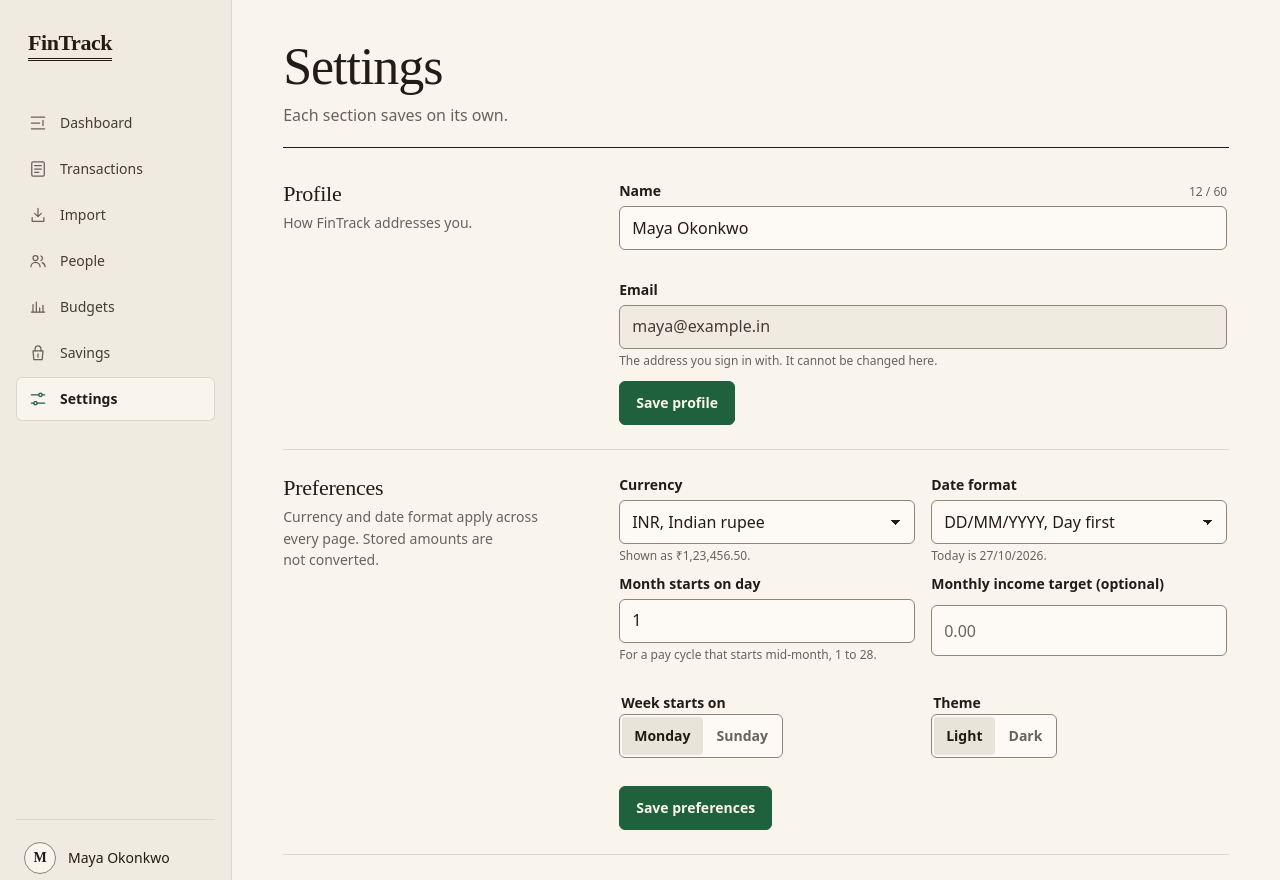
Test case: settings › saves the profile and preferences separately
The width and height of the screenshot is (1280, 880).
Replace the text in the field labelled "Name" with "Maya 2" at (923,228), box left=619, top=206, right=1227, bottom=250
Leave the field labelled "Name", box left=619, top=206, right=1227, bottom=250
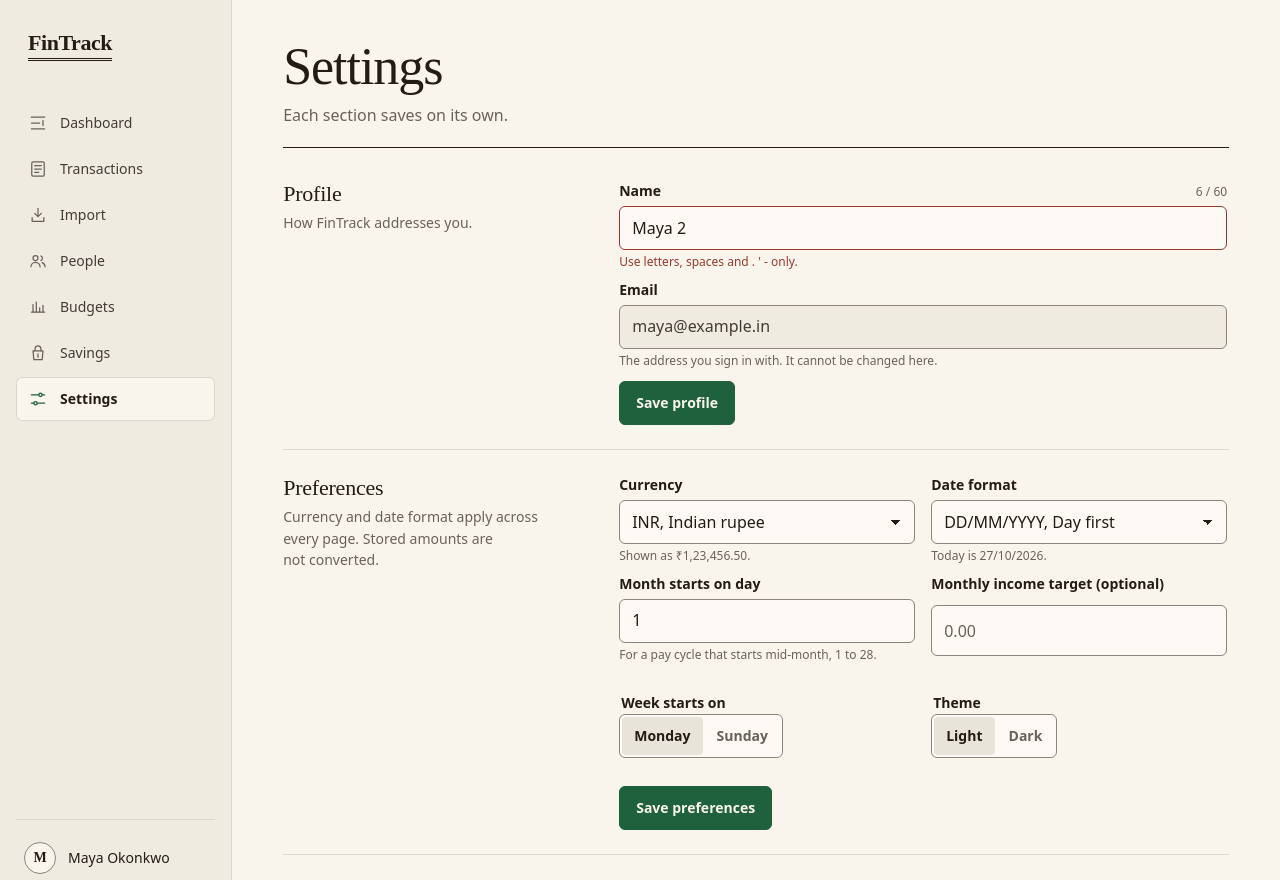
Result: the text "Use letters, spaces and . ' - only." is shown at left=619, top=253, right=798, bottom=270
Replace the text in the field labelled "Name" with "Maya Rao" at (923,228), box left=619, top=206, right=1227, bottom=250
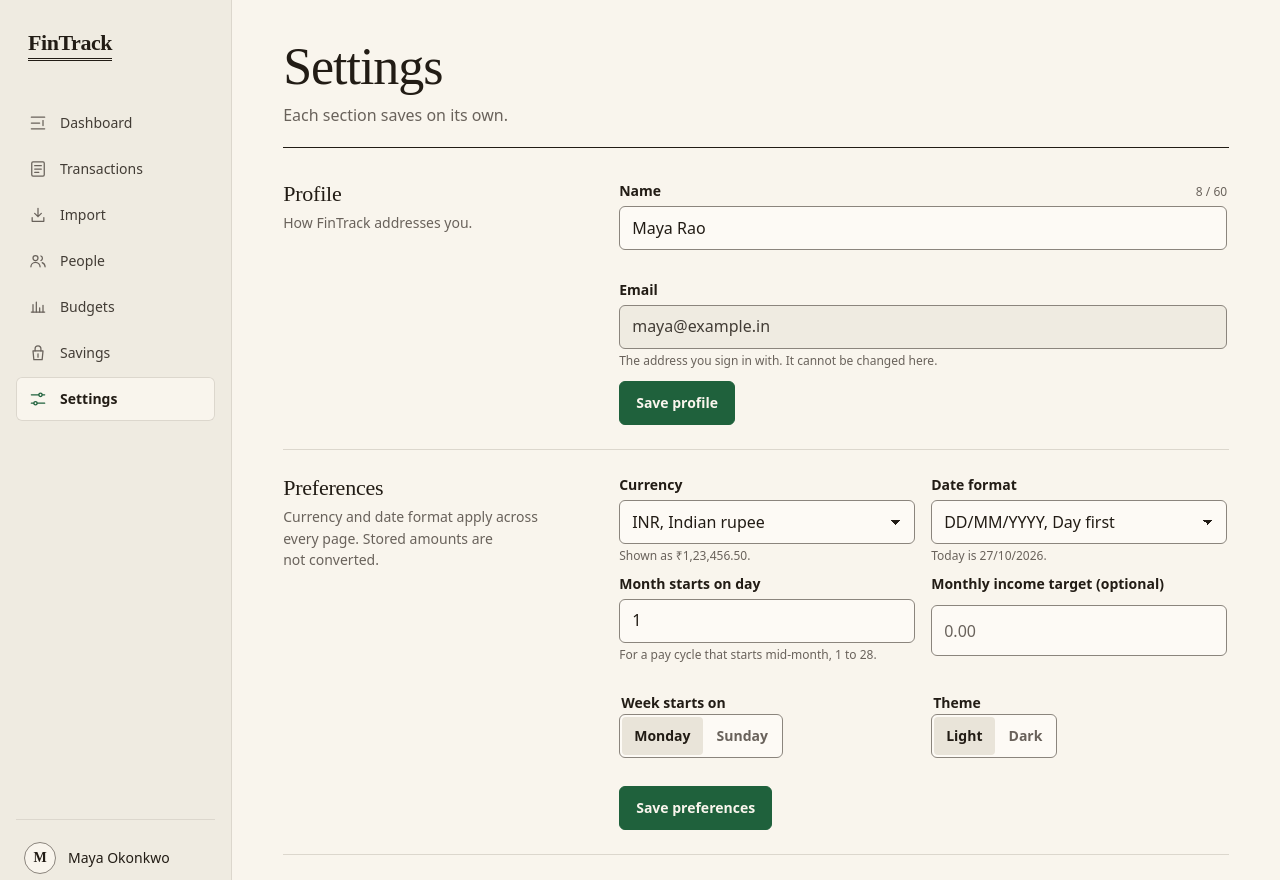
Result: the text "Use letters, spaces and . ' - only." is gone
Click the button "Save profile" at (677,403), box left=619, top=381, right=735, bottom=425
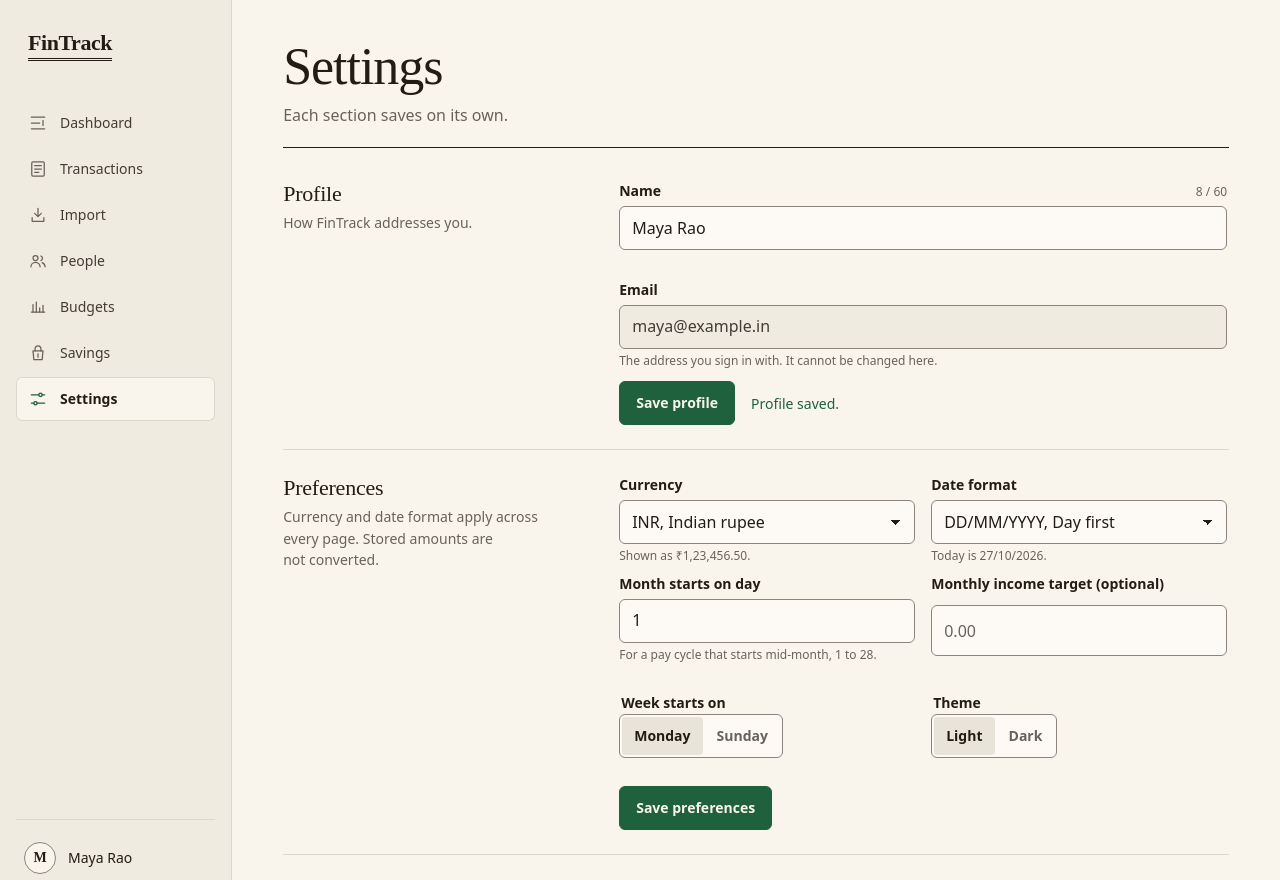
Result: the text "Profile saved." is shown at left=751, top=392, right=839, bottom=414
Select "YYYY-MM-DD, Year first (ISO)" in the dropdown labelled "Date format" at (1079,522), box left=931, top=500, right=1227, bottom=544
Replace the text in the number field labelled "Month starts on day" with "25" at (767,620), box left=619, top=598, right=915, bottom=642
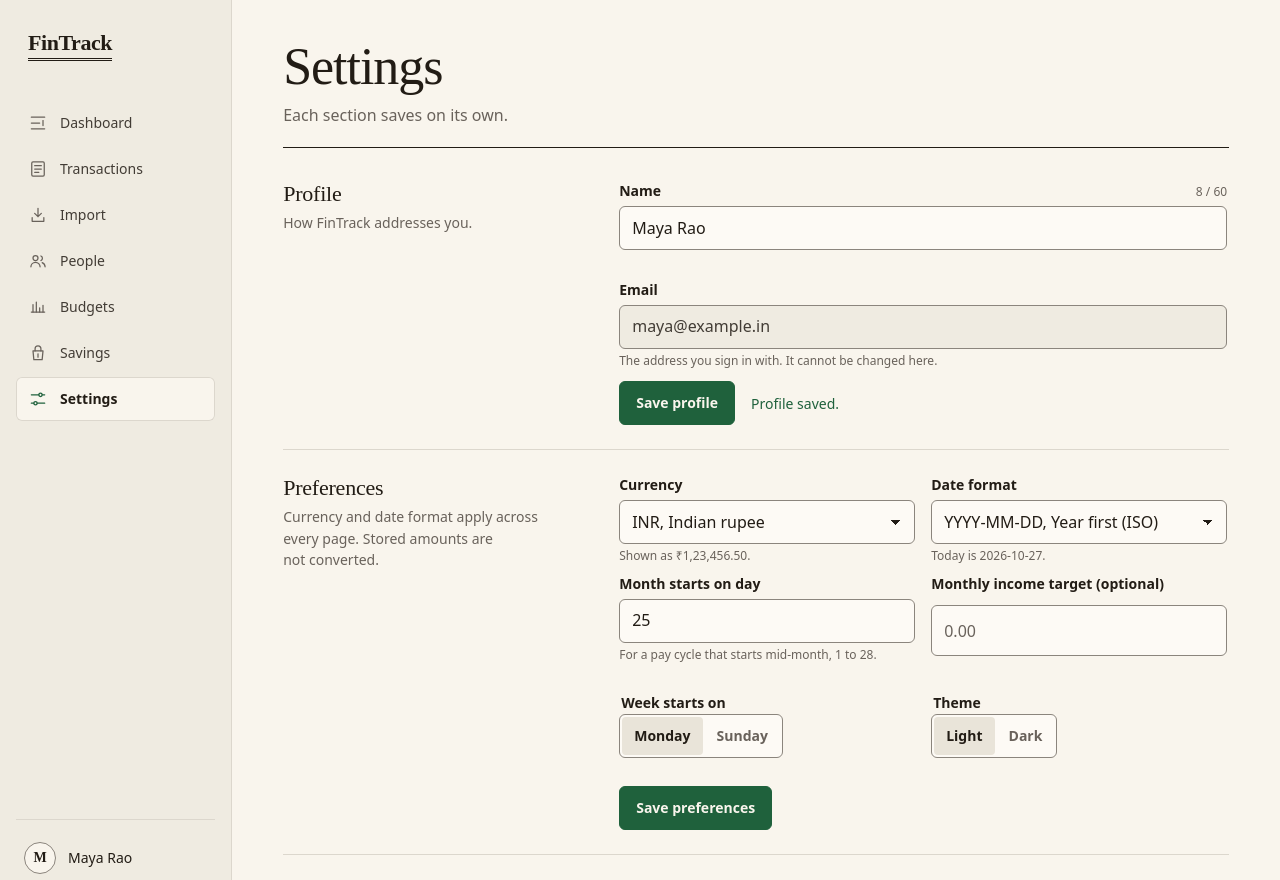
Type "90000" into the field labelled "Monthly income target (optional)" at (1079,631), box left=931, top=606, right=1227, bottom=656
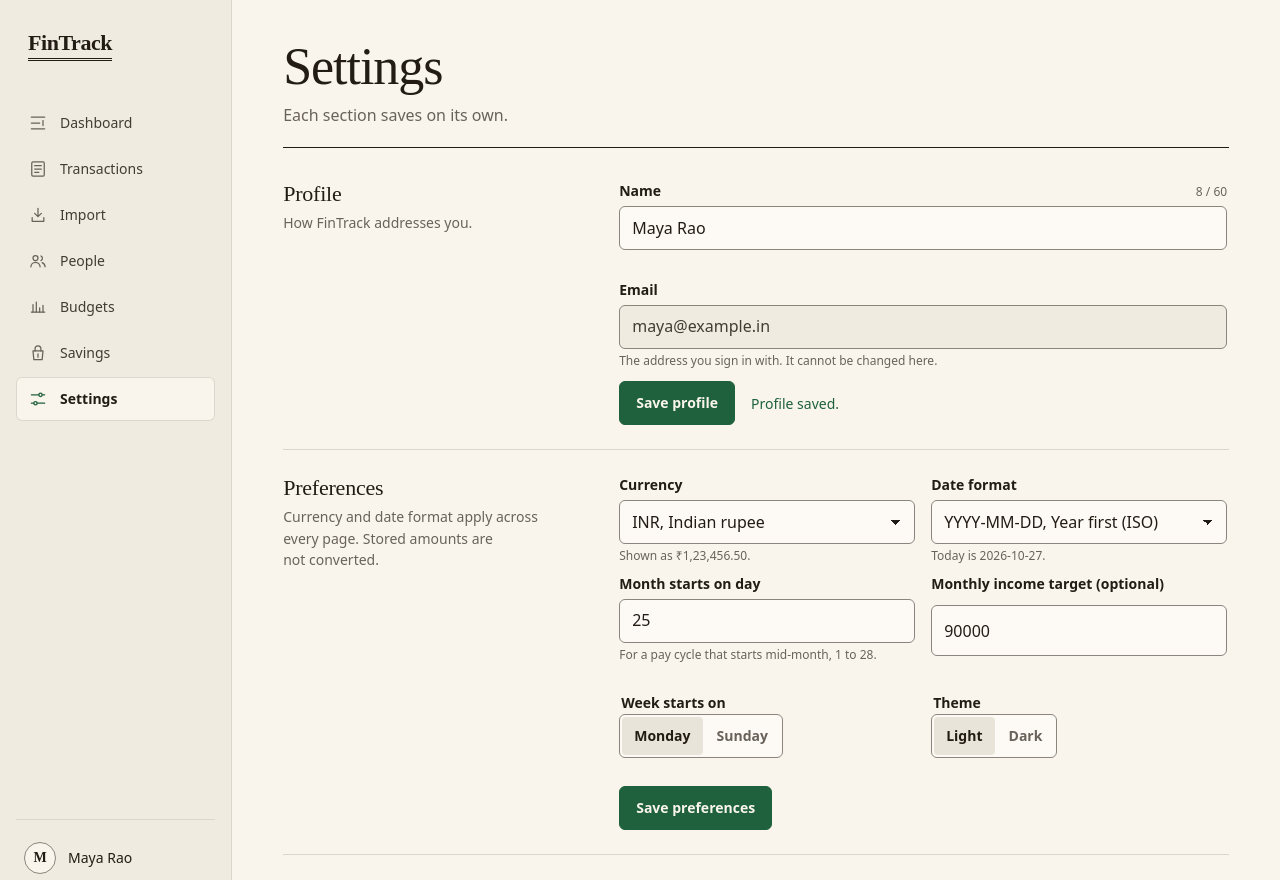
Click the button "Save preferences" at (696,808), box left=619, top=786, right=772, bottom=830
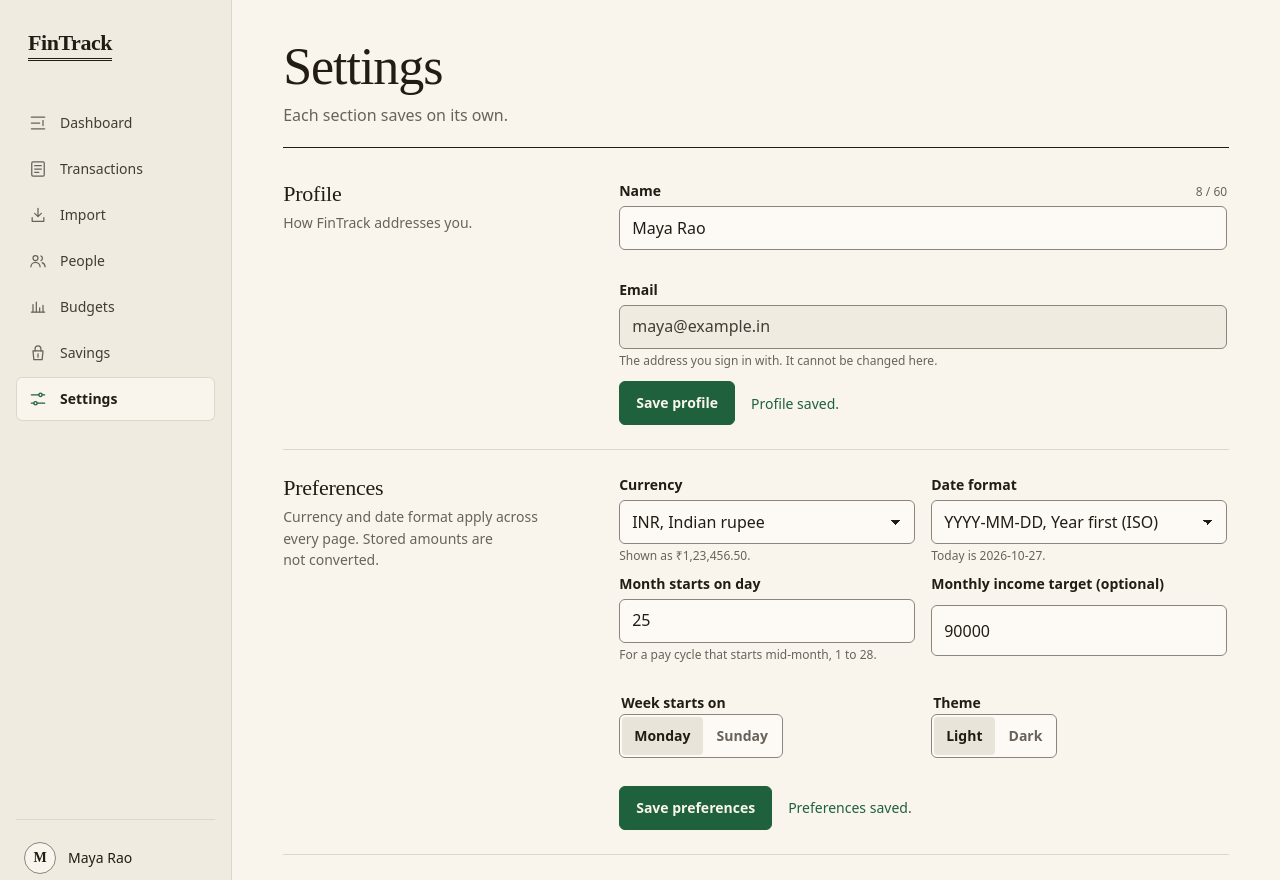
Result: the text "Preferences saved." is shown at left=788, top=797, right=912, bottom=819
